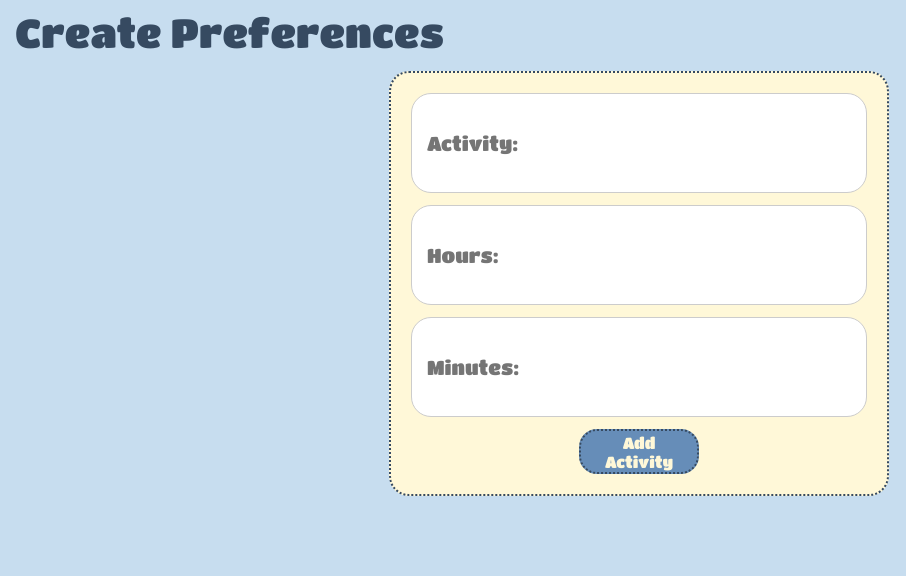
Scenario: Create Component › error handling with invalid inputs › shows error when empty fields are submitted
Click the button "Add Activity" at (639, 452), box [579,429,699,474]
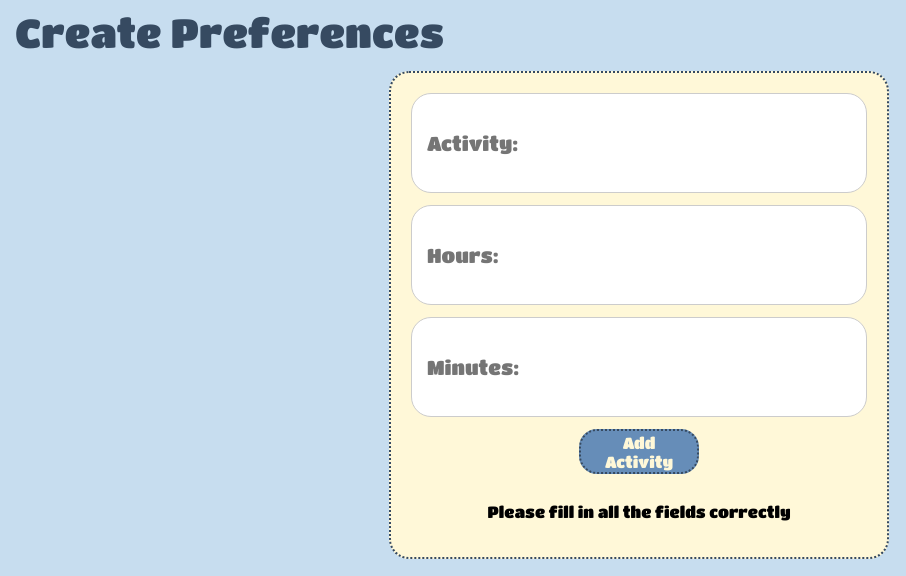
Expected: the text "Please fill in all the fields correctly" is shown, [488,502,790,521]
